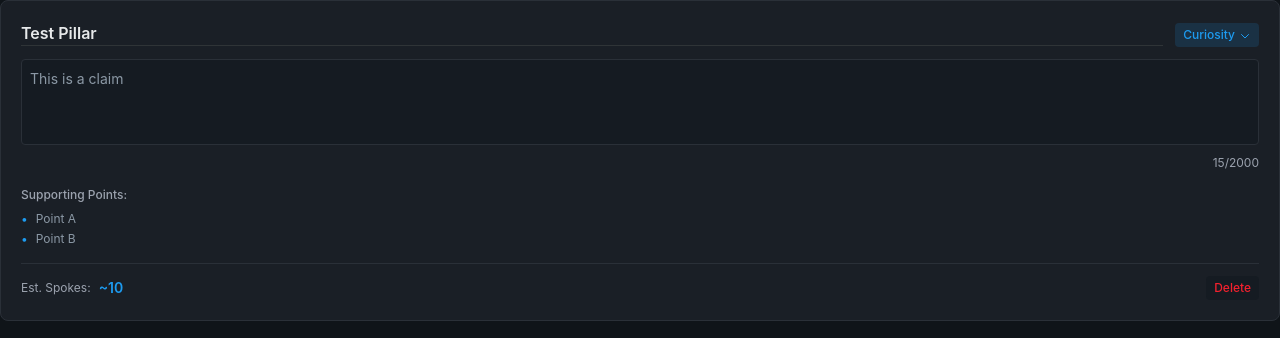
Test case: EditablePillarCard › cancels delete
Click the button with test id "delete-pillar-btn": (1233, 288) [1206,276,1259,300]
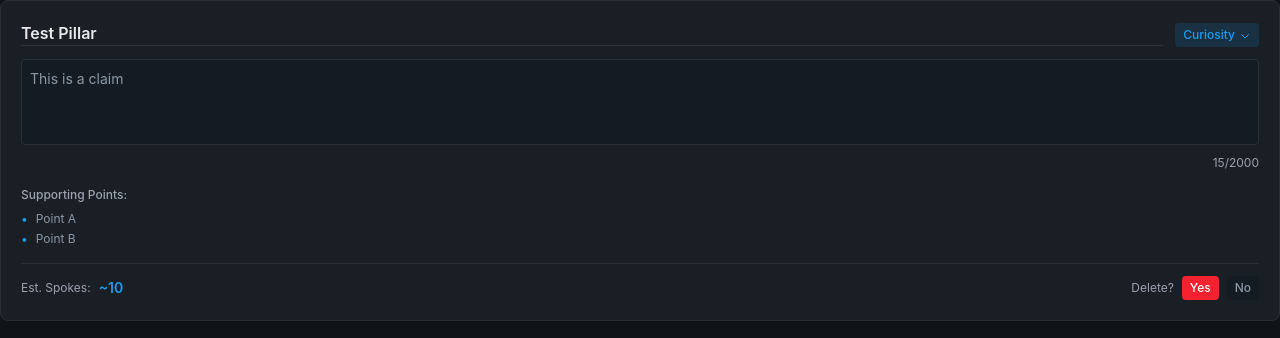
Click the button with test id "cancel-delete-btn": (1243, 288) [1227,276,1259,300]
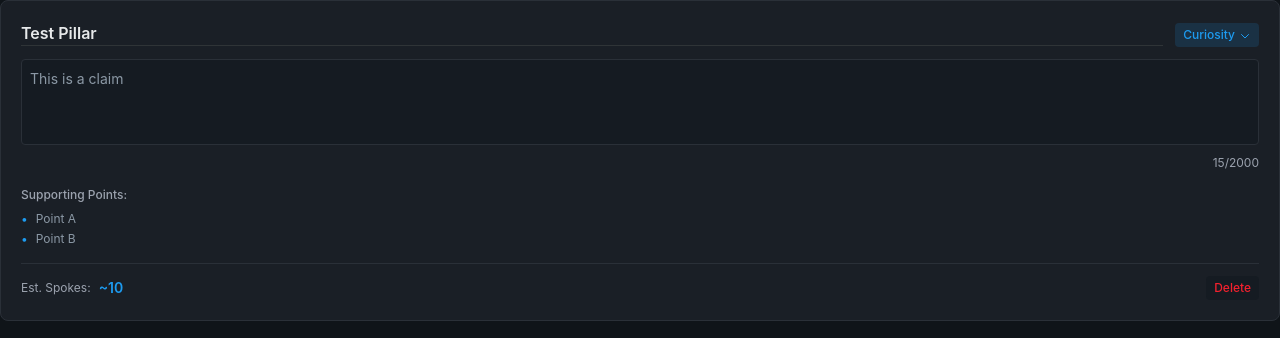
Check: the button with test id "confirm-delete-btn" is gone
